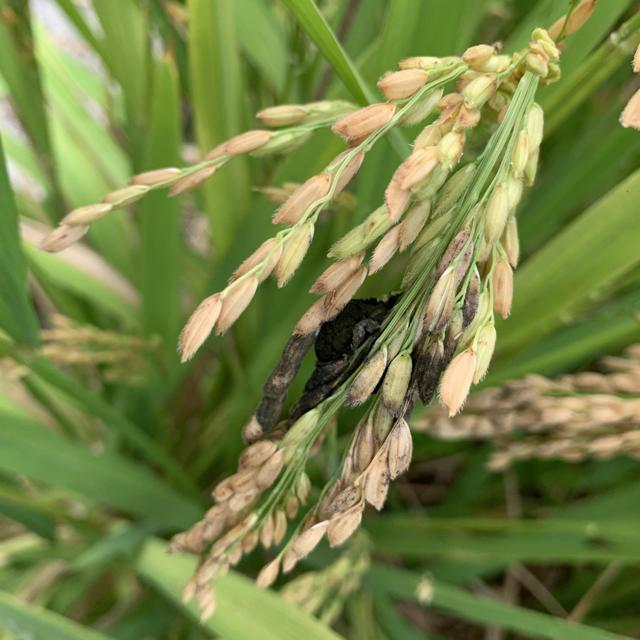Leaf_Scald: (306, 296, 401, 400)
